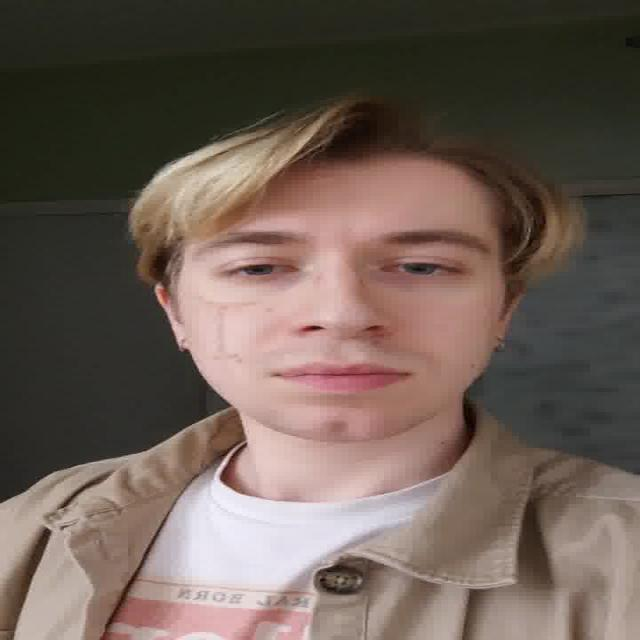earlobe: (171, 330, 193, 354), (492, 328, 508, 351)
eye: (384, 259, 457, 278), (226, 263, 300, 278)
nose: (291, 328, 390, 365)
wholeear: (153, 282, 193, 354), (492, 280, 525, 352)
